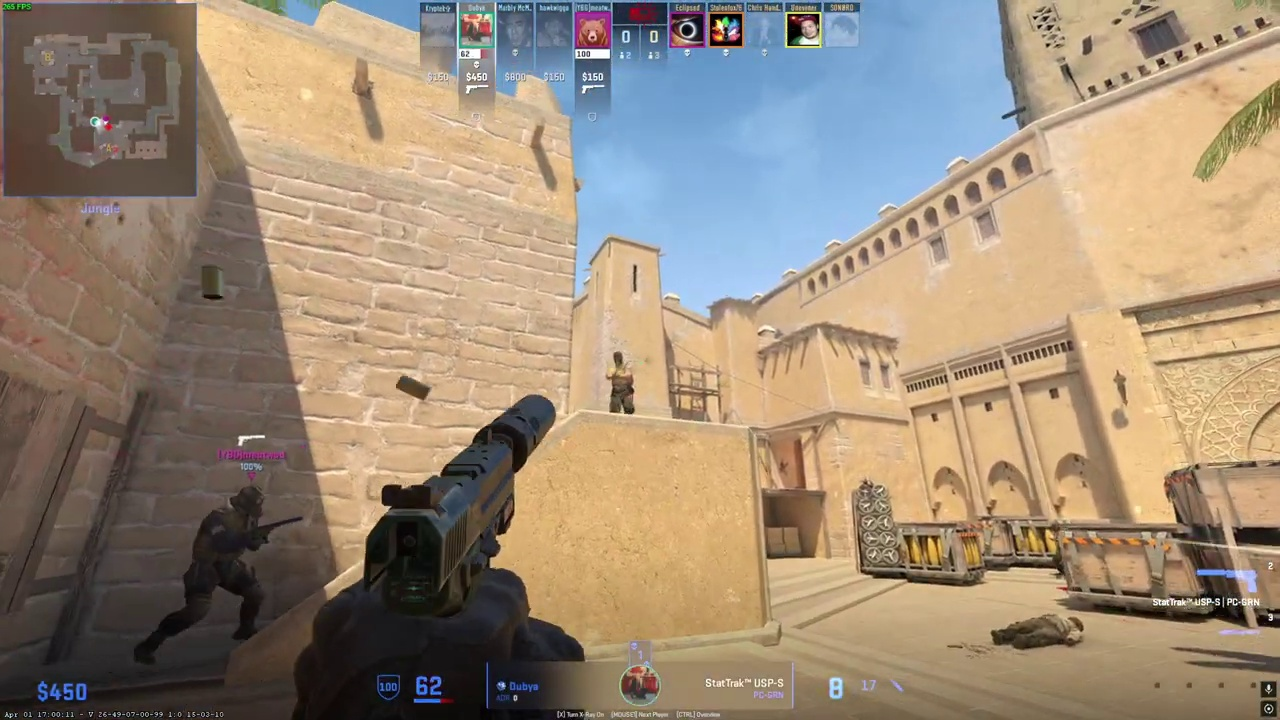CT: (156, 484, 270, 671)
Terrorist: (606, 351, 635, 414)
